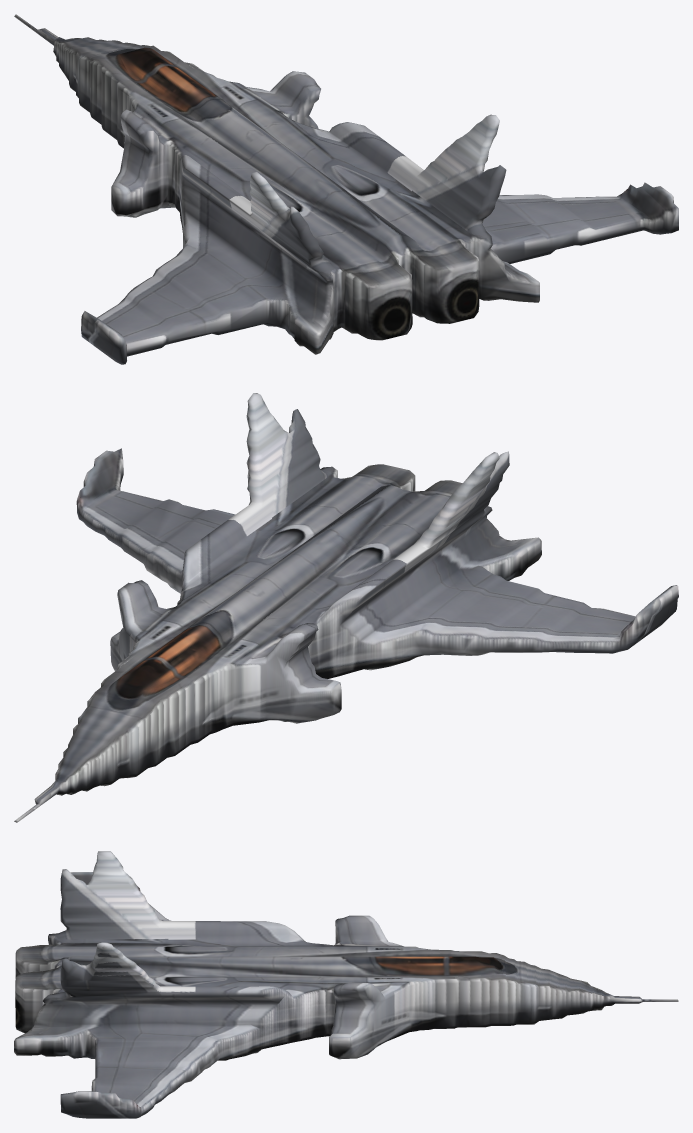
The model's file is guide-off.glb.
3 renders of one model, top to bottom at view 1: azimuth 30°, elevation 25°; view 2: azimuth 150°, elevation 25°; view 3: azimuth 270°, elevation 25°, orthographic. The views are drawn at different scales.
Visible parts, largest first — view 1: guide-off; view 2: guide-off; view 3: guide-off.
Boxes of the visible parts, bbox=[...] form: guide-off: bbox=[14, 14, 678, 364]; guide-off: bbox=[14, 393, 678, 822]; guide-off: bbox=[14, 851, 678, 1118].
Bounding box in the file's own units: 4.71 × 1.32 × 5.98.
1 material, 1 textured.
